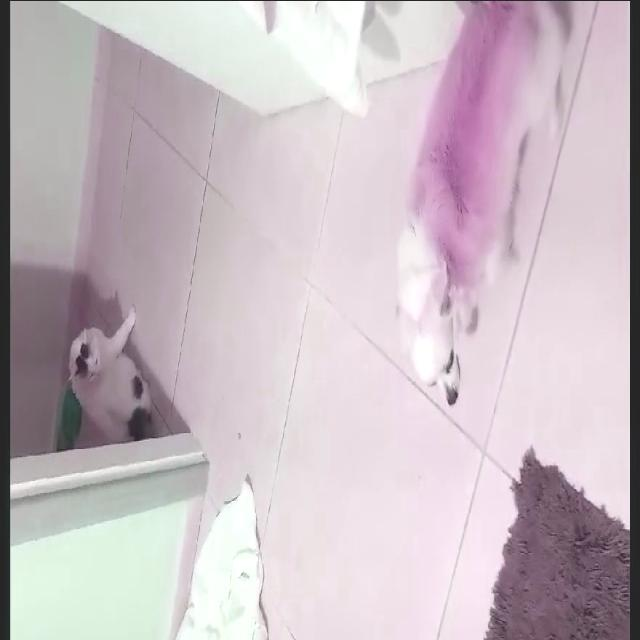Simba: (47, 297, 172, 438)
Theo: (382, 2, 578, 396)
